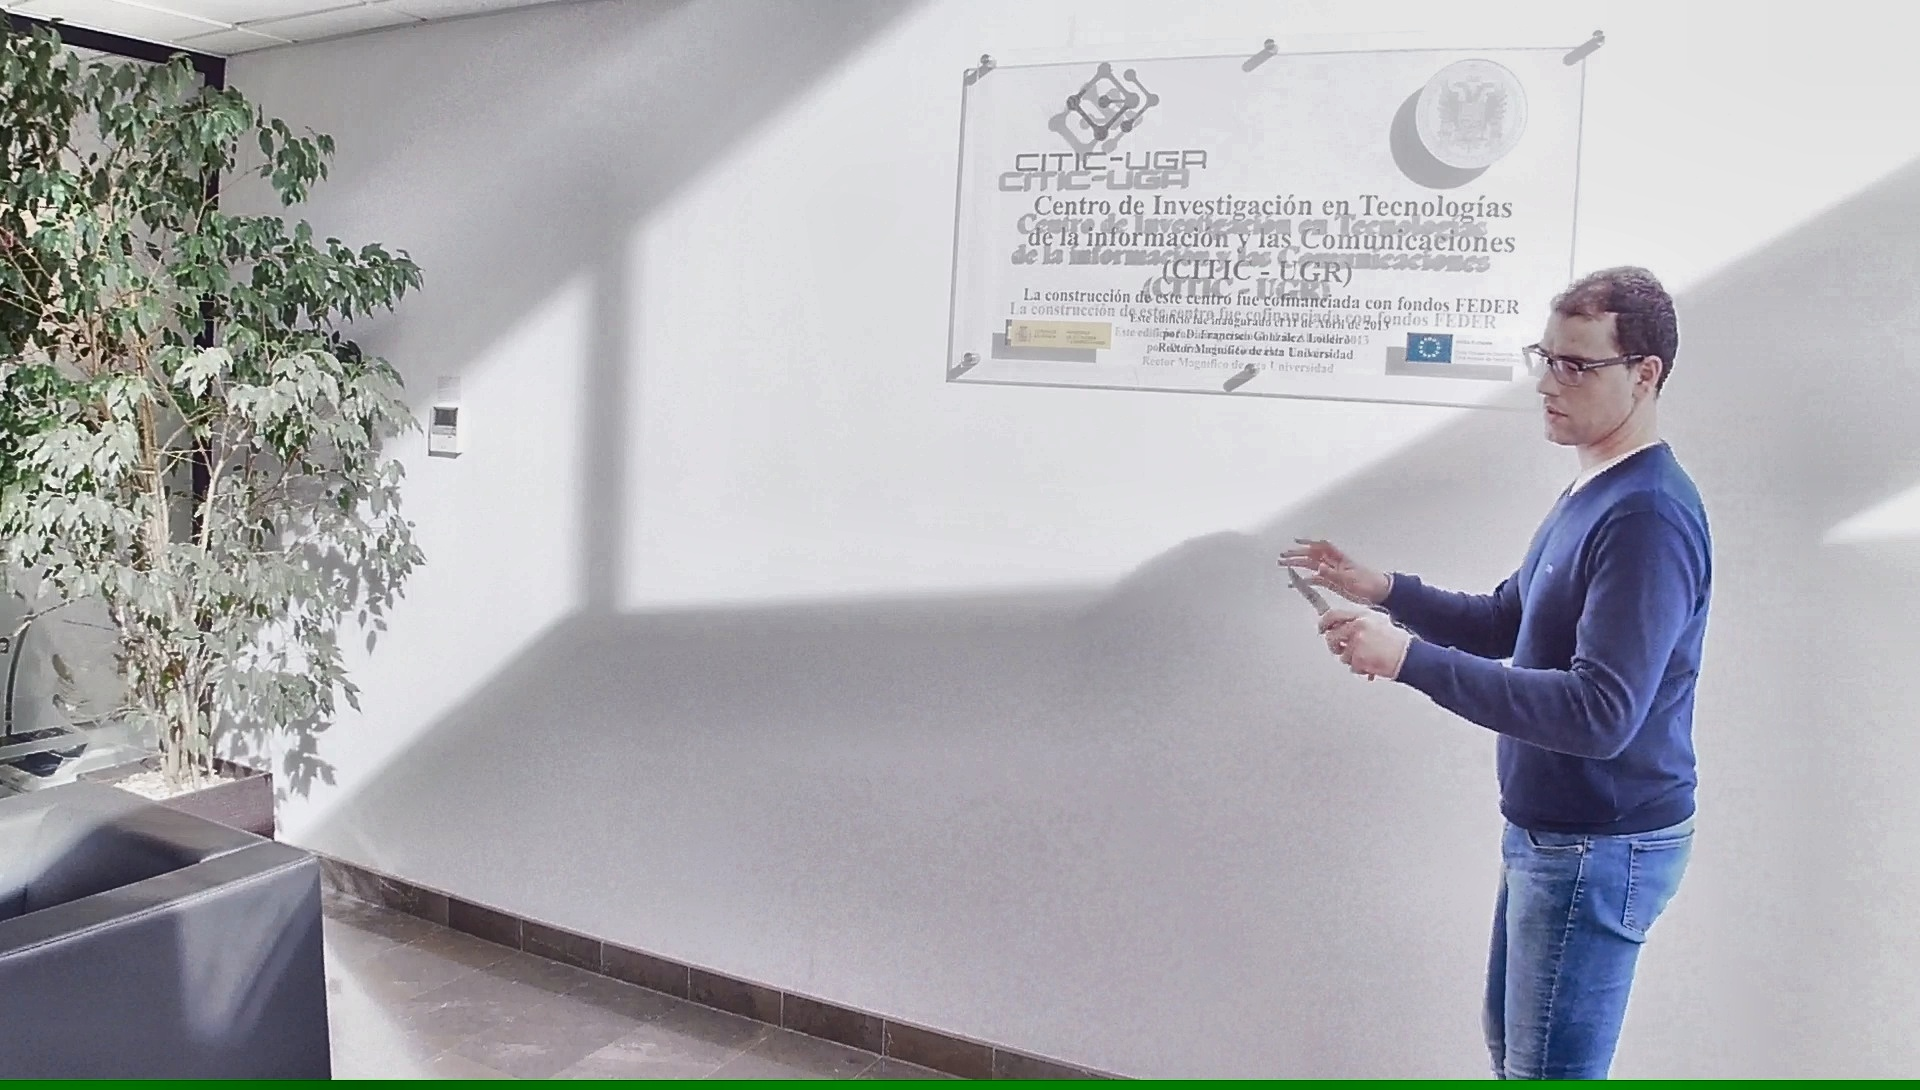knife: (1284, 560, 1381, 685)
